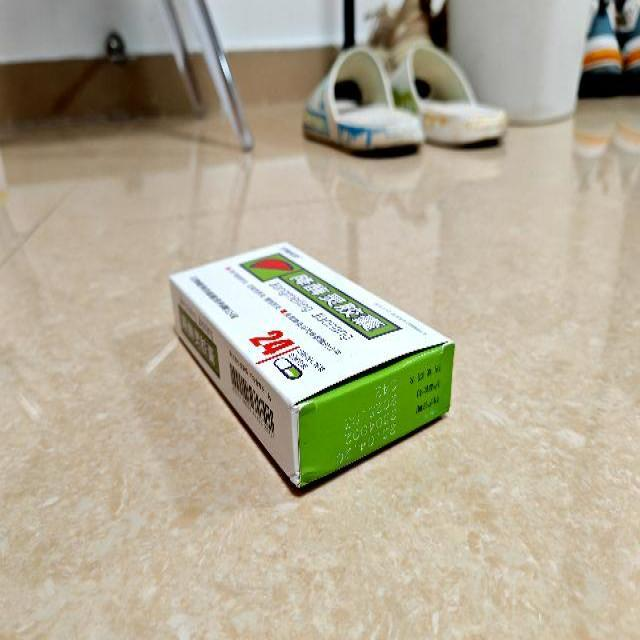box: (168, 243, 454, 490)
